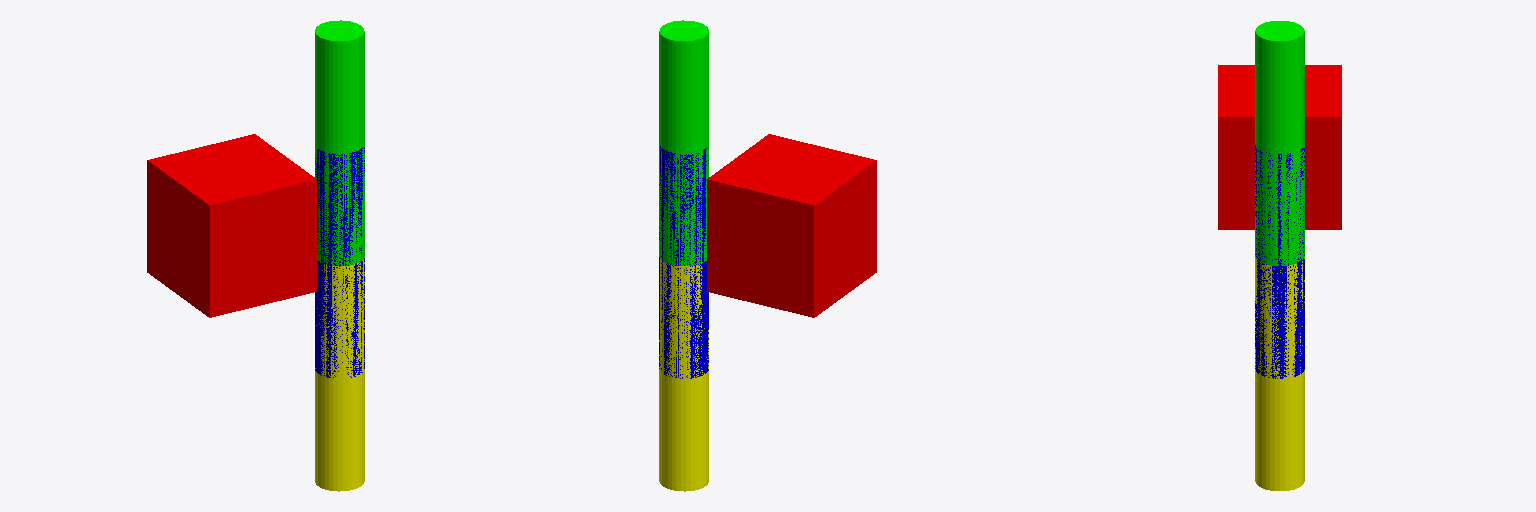
URDF robot description (my_drone):
<?xml version="1.0"?>
<robot name="my_drone">
  
  <!-- 简单的测试材质 -->
  <material name="red">
    <color rgba="1 0 0 1"/>
  </material>
  <material name="green">
    <color rgba="0 1 0 1"/>
  </material>
  <material name="blue">
    <color rgba="0 0 1 1"/>
  </material>
  <material name="yellow">
    <color rgba="1 1 0 1"/>
  </material>
  
  <!-- 基础链接 - 使用立方体 -->
  <link name="base_link">
    <inertial>
      <origin xyz="0 0 0" rpy="0 0 0"/>
      <mass value="0.5"/>
      <inertia ixx="0.0001" ixy="0.0" ixz="0.0" iyy="0.0001" iyz="0.0" izz="0.0001"/>
    </inertial>
    
    <visual>
      <origin xyz="0 0 0" rpy="0 0 0"/>
      <geometry>
        <box size="0.05 0.05 0.05"/>
      </geometry>
      <material name="red"/>
    </visual>
    
    <collision>
      <origin xyz="0 0 0" rpy="0 0 0"/>
      <geometry>
        <box size="0.05 0.05 0.05"/>
      </geometry>
    </collision>
  </link>
  
  <!-- 第一个连接臂 - 使用圆柱体 -->
  <link name="link0">
    <inertial>
      <origin xyz="0 0 0" rpy="0 0 0"/>
      <mass value="0.05"/>
      <inertia ixx="0.00001" ixy="0.0" ixz="0.0" iyy="0.00001" iyz="0.0" izz="0.00001"/>
    </inertial>
    
    <visual>
      <origin xyz="0 0 0" rpy="0 0 0"/>
      <geometry>
        <cylinder length="0.1" radius="0.01"/>
      </geometry>
      <material name="green"/>
    </visual>
    
    <collision>
      <origin xyz="0 0 0" rpy="0 0 0"/>
      <geometry>
        <cylinder length="0.1" radius="0.01"/>
      </geometry>
    </collision>
  </link>
  
  <joint name="joint0" type="revolute">
    <origin xyz="0.05 0 0.025" rpy="0 0 0"/>
    <parent link="base_link"/>
    <child link="link0"/>
    <axis xyz="0 1 0"/>
    <limit lower="-1.57" upper="1.57" effort="10.0" velocity="3.0"/>
    <dynamics damping="0.7" friction="0.0"/>
  </joint>
  
  <!-- 第二个连接臂 -->
  <link name="link1">
    <inertial>
      <origin xyz="0 0 0" rpy="0 0 0"/>
      <mass value="0.05"/>
      <inertia ixx="0.00001" ixy="0.0" ixz="0.0" iyy="0.00001" iyz="0.0" izz="0.00001"/>
    </inertial>
    
    <visual>
      <origin xyz="0 0 0" rpy="0 0 0"/>
      <geometry>
        <cylinder length="0.1" radius="0.01"/>
      </geometry>
      <material name="blue"/>
    </visual>
    
    <collision>
      <origin xyz="0 0 0" rpy="0 0 0"/>
      <geometry>
        <cylinder length="0.1" radius="0.01"/>
      </geometry>
    </collision>
  </link>
  
  <joint name="joint1" type="revolute">
    <origin xyz="0 0 -0.05" rpy="0 0 0"/>
    <parent link="link0"/>
    <child link="link1"/>
    <axis xyz="0 1 0"/>
    <limit lower="-1.57" upper="1.57" effort="10.0" velocity="3.0"/>
    <dynamics damping="0.7" friction="0.0"/>
  </joint>
  
  <!-- 第三个连接臂 -->
  <link name="link2">
    <inertial>
      <origin xyz="0 0 0" rpy="0 0 0"/>
      <mass value="0.05"/>
      <inertia ixx="0.00001" ixy="0.0" ixz="0.0" iyy="0.00001" iyz="0.0" izz="0.00001"/>
    </inertial>
    
    <visual>
      <origin xyz="0 0 0" rpy="0 0 0"/>
      <geometry>
        <cylinder length="0.1" radius="0.01"/>
      </geometry>
      <material name="yellow"/>
    </visual>
    
    <collision>
      <origin xyz="0 0 0" rpy="0 0 0"/>
      <geometry>
        <cylinder length="0.1" radius="0.01"/>
      </geometry>
    </collision>
  </link>
  
  <joint name="joint2" type="revolute">
    <origin xyz="0 0 -0.05" rpy="0 0 0"/>
    <parent link="link1"/>
    <child link="link2"/>
    <axis xyz="0 1 0"/>
    <limit lower="-1.57" upper="1.57" effort="10.0" velocity="3.0"/>
    <dynamics damping="0.7" friction="0.0"/>
  </joint>
  
  <!-- Gazebo配置 -->
  <gazebo reference="base_link">
    <material>Gazebo/Red</material>
  </gazebo>
  <gazebo reference="link0">
    <material>Gazebo/Green</material>
  </gazebo>
  <gazebo reference="link1">
    <material>Gazebo/Blue</material>
  </gazebo>
  <gazebo reference="link2">
    <material>Gazebo/Yellow</material>
  </gazebo>
</robot>

--- Facts derived from the render (not from the file) ---
Views: 3 orthographic renders of the robot side by side, from view 1: azimuth 30°, elevation 25°; view 2: azimuth 150°, elevation 25°; view 3: azimuth 270°, elevation 25°.
Model my_drone with 4 links and 3 joints (3 revolute), rooted at base_link, posed every joint at zero.
Links seen in each view (by area): view 1: base_link, link0, link2, link1; view 2: base_link, link0, link2, link1; view 3: base_link, link0, link2, link1.
Boxes of the visible links, left/top/right/bottom form: base_link: left=147, top=134, right=316, bottom=317; link0: left=315, top=20, right=364, bottom=265; link2: left=315, top=257, right=364, bottom=491; link1: left=315, top=147, right=364, bottom=377; base_link: left=707, top=134, right=876, bottom=317; link0: left=659, top=20, right=708, bottom=265; link2: left=659, top=259, right=708, bottom=491; link1: left=659, top=146, right=708, bottom=378; base_link: left=1218, top=65, right=1341, bottom=229; link0: left=1255, top=21, right=1304, bottom=265; link2: left=1255, top=257, right=1304, bottom=490; link1: left=1255, top=145, right=1304, bottom=378.
Size in the robot's own frame: 0.085 by 0.05 by 0.2 metres.
Geometry: primitives only (box / cylinder / sphere), no mesh files.
